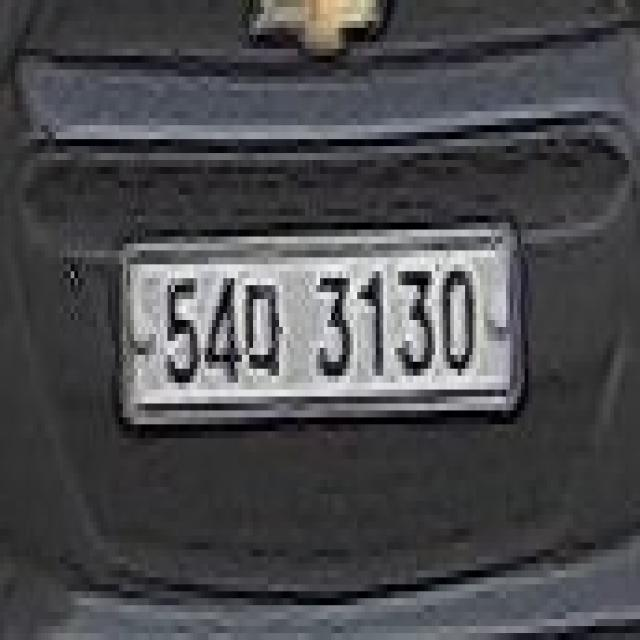0: (435, 250, 484, 396)
1: (361, 244, 394, 396)
3: (390, 236, 442, 404), (309, 264, 353, 390)
4: (201, 251, 246, 404)
5: (163, 250, 204, 390)
da: (238, 271, 294, 383)
license_plate: (104, 209, 532, 459)
